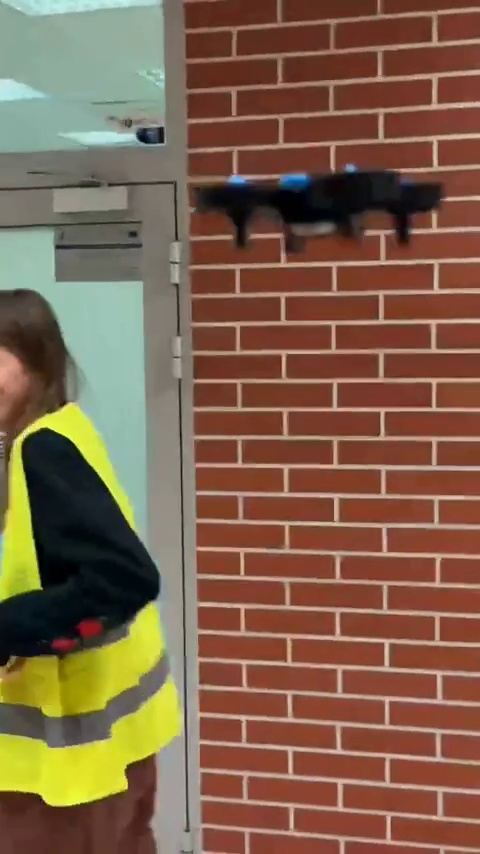drone: (191, 162, 448, 261)
vest: (0, 282, 179, 854)
